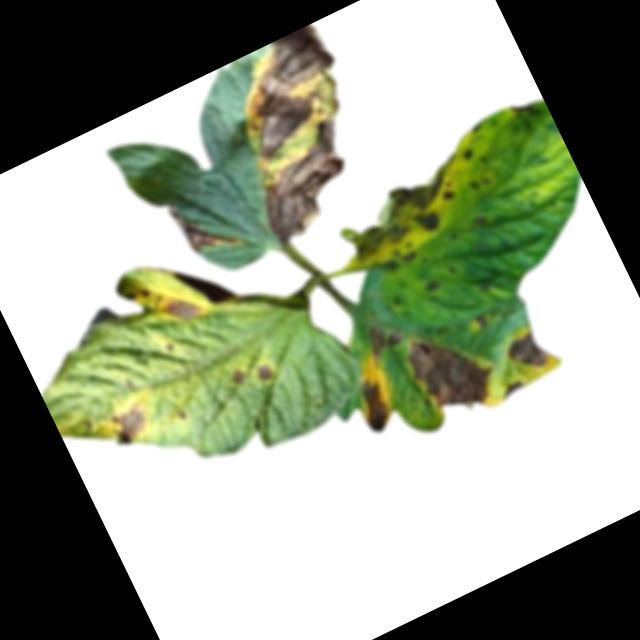Early_blight: (196, 22, 396, 246), (332, 156, 483, 274), (397, 313, 505, 428), (164, 181, 246, 269), (347, 371, 400, 436), (498, 323, 553, 378), (107, 399, 154, 447), (360, 315, 406, 361), (158, 285, 203, 330), (120, 280, 152, 307), (496, 375, 527, 400), (252, 358, 276, 383), (509, 97, 533, 117), (420, 275, 444, 295), (226, 365, 246, 385), (471, 310, 489, 329), (459, 143, 476, 162), (400, 248, 418, 262), (474, 213, 489, 227), (477, 276, 489, 288)
